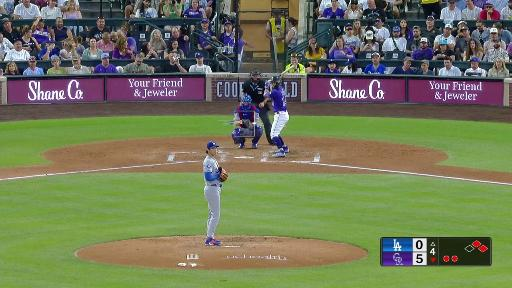pitcher: (203, 140, 229, 246)
